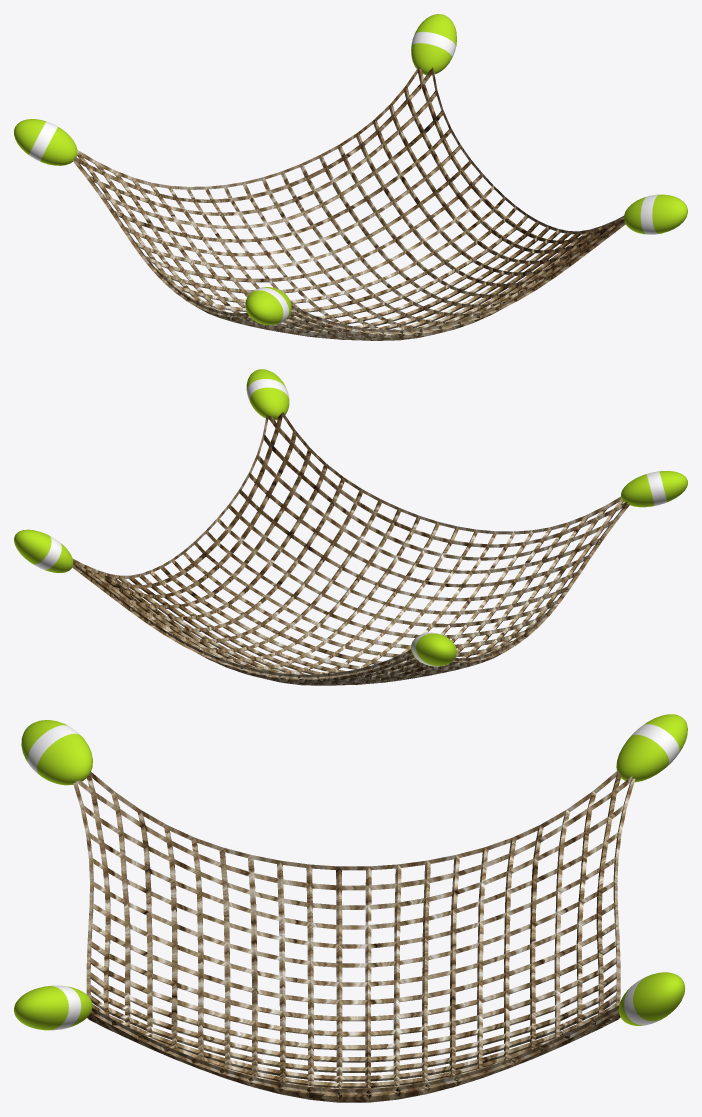
Rendered from NETGREEN.glb.
The picture shows the model from 3 angles, top to bottom: view 1: azimuth 30°, elevation 25°; view 2: azimuth 150°, elevation 25°; view 3: azimuth 270°, elevation 25°; orthographic projection. The views are drawn at different scales.
Visible parts, largest first — view 1: Sphere; view 2: Sphere; view 3: Sphere.
Boxes of the visible parts, x1,y1,x2,y2 form: Sphere: (14, 14, 687, 340); Sphere: (14, 369, 687, 685); Sphere: (14, 714, 687, 1102).
Size of the model in its own units: 2.31 by 0.8038 by 2.3.
Materials: 5 (5 with a texture image).
